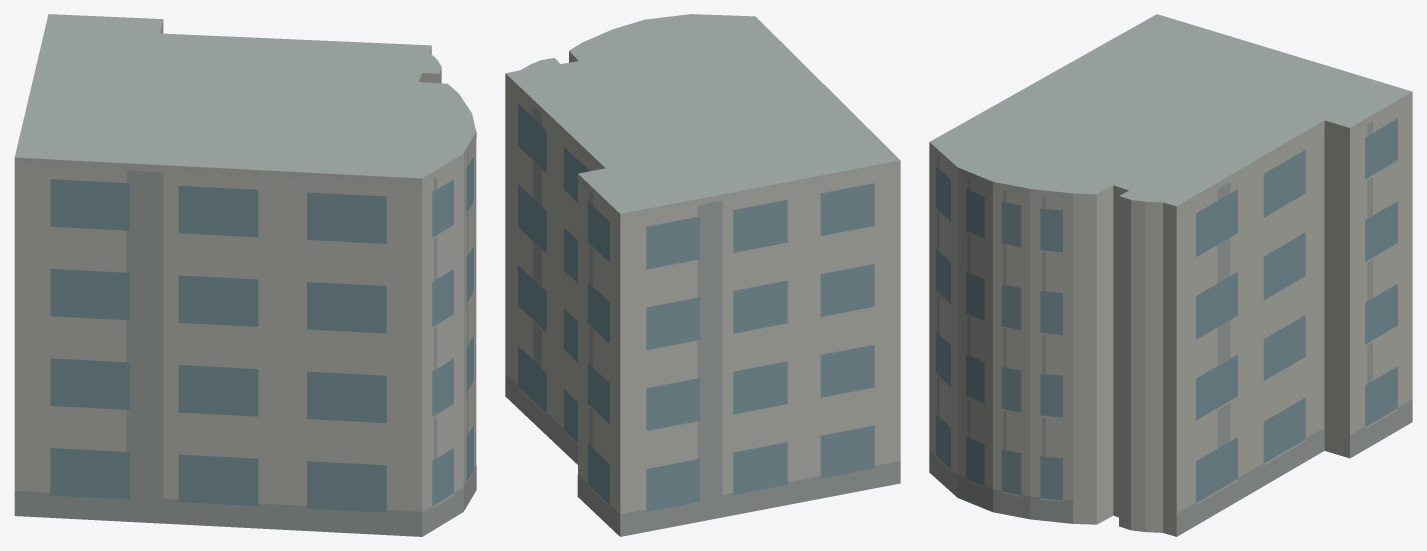
File: residential-dfd5a8de-0dc9-4cf3-84ff-0efea62fb9fd.glb
3 renders of one model, left to right at view 1: azimuth 30°, elevation 25°; view 2: azimuth 150°, elevation 25°; view 3: azimuth 270°, elevation 25°, orthographic. The views are drawn at different scales.
Parts seen in each view (by area): view 1: residential-dfd5a8de-0dc9-4cf3-84ff-0efea62fb9fd.tmp; view 2: residential-dfd5a8de-0dc9-4cf3-84ff-0efea62fb9fd.tmp; view 3: residential-dfd5a8de-0dc9-4cf3-84ff-0efea62fb9fd.tmp.
Part boxes in pixels (<box>): residential-dfd5a8de-0dc9-4cf3-84ff-0efea62fb9fd.tmp: <box>14,14,476,536</box>; residential-dfd5a8de-0dc9-4cf3-84ff-0efea62fb9fd.tmp: <box>505,14,900,536</box>; residential-dfd5a8de-0dc9-4cf3-84ff-0efea62fb9fd.tmp: <box>929,14,1412,536</box>.
Size of the model in its own units: 15.24 by 12.2 by 16.17.
